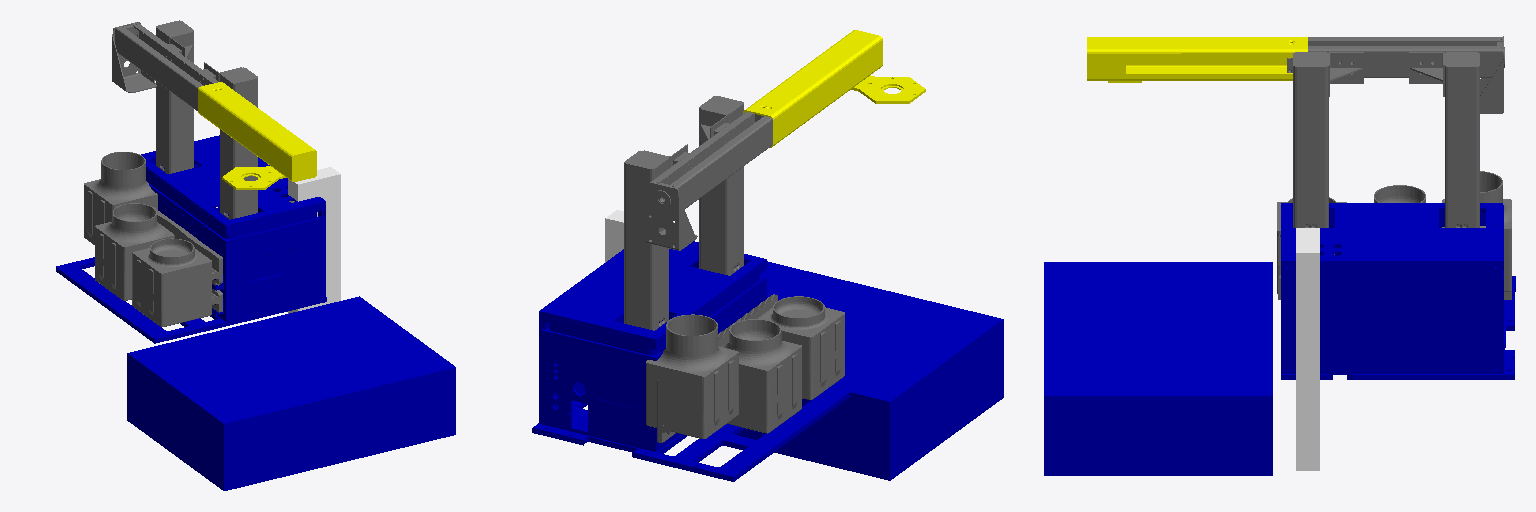
robot.urdf — RICA_SYSMAP_ARM:
<?xml version="1.0" encoding="utf-8"?>
<robot name="RICA_SYSMAP_ARM">
<material name="blue"><color rgba="0 0 0.8 1"/></material>
<material name="white"><color rgba="1 1 1 1"/></material>
<material name="grey"><color rgba="0.5 0.5 0.5 1"/></material>
<material name="yellow"><color rgba="1 1 0 1"/></material>
<link name="base_link">
<visual>
<geometry><box size="0.54 0.39 0.15"/></geometry>
<material name="blue"/>
</visual>
<collision>
<geometry><box size="0.54 0.39 0.15"/></geometry>
<origin xyz="0 0 0"/>
</collision>
</link>
<link name="front_left_leg">
<visual>
<geometry><box size="0.41 0.04 0.1"/></geometry>
<origin rpy="0 1.57075 0" xyz="0 0.06 0.17"/>
<material name="white"/>
</visual>
</link>
<joint name="base_to_front_left_leg" type="revolute">
<axis xyz="0 1 0"/>
<limit effort="1000.0" lower="0.0" upper="6.28" velocity="0.5"/>
<parent link="base_link"/>
<child link="front_left_leg"/>
<origin xyz="0.20 0.195 -0.04"/>
</joint>
<joint name="rica_to_arm_base" type="fixed">
<parent link="base_link"/>
<child link="base"/>
<origin xyz="0.1 0 0.1" rpy="0 0 0"/>
</joint>
<link name="base">
<visual>
<origin xyz="-0.30 0.205 -0.04" rpy=" 1.57075 0 1.57" />
<geometry><mesh filename="package://sysmap_package/meshes/base.STL" scale="0.001 0.001 0.001" /></geometry>
<material name="blue"/>
</visual>
</link>
<link name="gliss_poteaux">
<visual>
<geometry><mesh filename="package://sysmap_package/meshes/gliss_poteaux.STL" scale="0.001 0.001 0.001" /></geometry>
<material name="grey"/>
</visual>
</link>
<joint name="gliss_poteaux" type="prismatic">
<origin xyz="-0.18 -0.78 0.5" rpy="-1.57075 0 0" />
<parent link="base" />
<child link="gliss_poteaux" />
<axis xyz="0 1 0" />
<limit lower="0" upper="0.175" effort="100" velocity="0.1" />
</joint>
<link name="gliss_bras">
<visual>
<geometry><mesh filename="package://sysmap_package/meshes/gliss_bras.STL" scale="0.001 0.001 0.001" /></geometry>
<material name="yellow"/>
</visual>
</link>
<joint name="gliss_bras" type="prismatic">
<origin xyz="-0.10 0.005 0.65" rpy="1.57 0 1.57" />
<parent link="gliss_poteaux" />
<child link="gliss_bras" />
<axis xyz="0 1 0" />
<limit lower="0" upper="0.28" effort="100" velocity="0.1" />
</joint>
<link name="verin">
<visual>
<geometry><mesh filename="package://sysmap_package/meshes/verin.STL" scale="0.001 0.001 0.001" /></geometry>
<material name="grey"/>
</visual>
</link>
<joint name="verin" type="prismatic">
<origin xyz="0.025 0 -1.025" rpy="0 0 0" />
<parent link="gliss_bras" />
<child link="verin" />
<axis xyz="-1 0 0" />
<limit lower="0" upper="0.32" effort="100" velocity="0.1" />
</joint>
<link name="rot_pince">
<visual>
<geometry><mesh filename="package://sysmap_package/meshes/rot_pince.STL" scale="0.001 0.001 0.001" /></geometry>
<material name="white"/>
</visual>
</link>
<joint name="rot_pince" type="revolute">
<origin xyz="1.68 -0.02 0.95 " rpy="0 4.75 0" />
<parent link="verin" />
<child link="rot_pince" />
<axis xyz="0 0 -1" />
<limit lower="-3.14" upper="3.14" effort="10" velocity="1.0" />
</joint>
<link name="gliss_boites">
<visual>
<geometry><mesh filename="package://sysmap_package/meshes/gliss_boites.STL" scale="0.001 0.001 0.001" /></geometry>
<material name="grey"/>
</visual>
</link>
<joint name="gliss_boites" type="prismatic">
<origin xyz="-0.28 0.2 -1" rpy="0 0 0" />
<parent link="base" />
<child link="gliss_boites" />
<axis xyz="0 -1 0" />
<limit lower="0" upper="0.21" effort="50" velocity="0.1" />
</joint>
<link name="camera_fixed_link">
<visual>
<geometry><mesh filename="package://sysmap_package/meshes/camera0.STL" scale="0.001 0.001 0.001" /></geometry>
<material name="grey"/>
</visual>
</link>
<joint name="gliss_bras_to_camera_fixed" type="fixed">
<parent link="gliss_bras" />
<child link="camera_fixed_link" />
<origin xyz="-0.31 0 -0.09" rpy="0 0.4 0" />
</joint>
<link name="camera_eye_link">
<visual>
<geometry><mesh filename="package://sysmap_package/meshes/camera0.STL" scale="0.001 0.001 0.001" /></geometry>
<material name="grey"/>
</visual>
</link>
<joint name="pince_to_camera" type="fixed">
<parent link="rot_pince" />
<child link="camera_eye_link" />
<origin xyz="0.05 0 -0.035" rpy="0 0 0" />
</joint>
<link name="tof_sensor_link">
<visual>
<geometry><mesh filename="package://sysmap_package/meshes/cpt_distance0.STL" scale="0.001 0.001 0.001" /></geometry>
<material name="grey"/>
</visual>
</link>
<joint name="pince_to_tof" type="fixed">
<parent link="rot_pince" />
<child link="tof_sensor_link" />
<origin xyz="0 0.045 -0.075" rpy="0 0 0" />
</joint>
<link name="uno_imu_link">
<visual>
<geometry><mesh filename="package://sysmap_package/meshes/IMU0.STL" scale="0.001 0.001 0.001" /></geometry>
<material name="grey"/>
</visual>
</link>
<joint name="base_to_imu" type="fixed">
<parent link="rot_pince" />
<child link="uno_imu_link" />
<origin xyz="0.04 0.045 -0.075" rpy="0 0 0" />
</joint>
<link name="boite_1">
<visual>
<geometry><mesh filename="package://sysmap_package/meshes/boite_solide.STL" scale="0.001 0.001 0.001" /></geometry>
<material name="grey"/>
</visual>
</link>
<joint name="rail_to_boite_1" type="fixed">
<parent link="gliss_boites" />
<child link="boite_1" />
<origin xyz="-0.14 0 0.03" rpy="0 0 0" />
</joint>
<link name="boite_2">
<visual>
<geometry><mesh filename="package://sysmap_package/meshes/boite_liquide.STL" scale="0.001 0.001 0.001" /></geometry>
<material name="grey"/>
</visual>
</link>
<joint name="rail_to_boite_2" type="fixed">
<parent link="gliss_boites" />
<child link="boite_2" />
<origin xyz="-0.1 0.28 0.03" rpy="0 0 0" />
</joint>
<link name="boite_3">
<visual>
<geometry><mesh filename="package://sysmap_package/meshes/boite_frottis.STL" scale="0.001 0.001 0.001" /></geometry>
<material name="grey"/>
</visual>
</link>
<joint name="rail_to_boite_3" type="fixed">
<parent link="gliss_boites" />
<child link="boite_3" />
<origin xyz="-0.15 0.15 0" rpy="0 0 0" />
</joint>
</robot>

--- Facts derived from the render (not from the file) ---
The picture shows the robot from 3 angles, left to right: view 1: azimuth 30°, elevation 25°; view 2: azimuth 150°, elevation 25°; view 3: azimuth 270°, elevation 25°; orthographic projection.
Robot: RICA_SYSMAP_ARM — 15 links, 14 joints (2 revolute, 4 prismatic, 8 fixed); root link base_link; default pose: all joints at 0.
Visible links, largest first — view 1: base_link, base, gliss_poteaux, gliss_bras, boite_1, boite_3, boite_2, front_left_leg, gliss_boites; view 2: base_link, base, gliss_poteaux, boite_2, gliss_bras, boite_3, boite_1, gliss_boites, front_left_leg; view 3: base_link, base, gliss_poteaux, gliss_bras, front_left_leg, boite_2, boite_3.
Boxes of the visible links, left/top/right/bottom form: base_link: left=127, top=296, right=455, bottom=490; base: left=56, top=135, right=326, bottom=343; gliss_poteaux: left=112, top=20, right=257, bottom=219; gliss_bras: left=198, top=82, right=316, bottom=189; boite_1: left=132, top=238, right=211, bottom=326; boite_3: left=95, top=203, right=174, bottom=300; boite_2: left=84, top=152, right=157, bottom=244; front_left_leg: left=288, top=167, right=340, bottom=313; gliss_boites: left=154, top=207, right=222, bottom=312; base_link: left=737, top=261, right=1003, bottom=480; base: left=532, top=241, right=849, bottom=481; gliss_poteaux: left=624, top=96, right=772, bottom=330; boite_2: left=646, top=314, right=738, bottom=438; gliss_bras: left=743, top=30, right=925, bottom=147; boite_3: left=721, top=319, right=801, bottom=433; boite_1: left=758, top=296, right=844, bottom=399; gliss_boites: left=657, top=294, right=777, bottom=442; front_left_leg: left=605, top=210, right=623, bottom=262; base_link: left=1044, top=262, right=1272, bottom=475; base: left=1281, top=203, right=1515, bottom=379; gliss_poteaux: left=1287, top=36, right=1504, bottom=227; gliss_bras: left=1087, top=37, right=1307, bottom=82; front_left_leg: left=1296, top=228, right=1319, bottom=470; boite_2: left=1442, top=171, right=1511, bottom=291; boite_3: left=1374, top=185, right=1425, bottom=202.
Size in the robot's own frame: 0.54 by 0.8041 by 0.7251 metres.
8 mesh visuals loaded from 12 distinct referenced files (8 binary STL); not drawn: 5 (reference not matched to a file when rendering).
